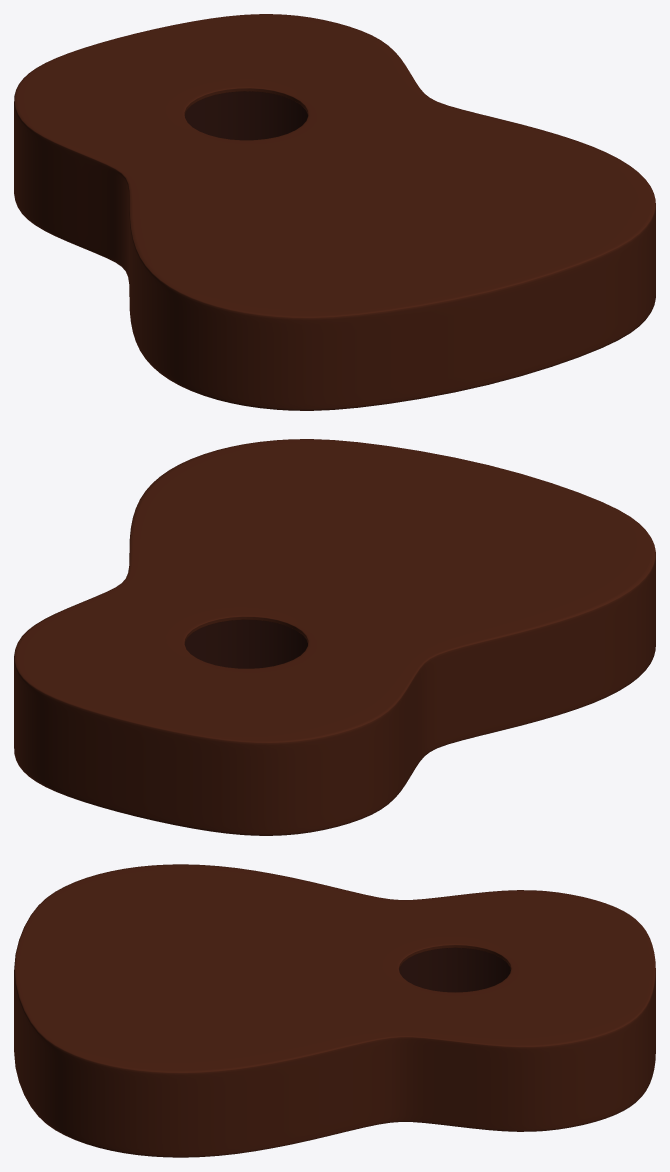
Rendered from GuitarePart1.fbx.
The picture shows the model from 3 angles, top to bottom: view 1: azimuth 30°, elevation 25°; view 2: azimuth 150°, elevation 25°; view 3: azimuth 270°, elevation 25°; orthographic projection. The views are drawn at different scales.
Parts seen in each view (by area): view 1: GuitarePart1; view 2: GuitarePart1; view 3: GuitarePart1.
Boxes of the visible parts, x1=… form: GuitarePart1: x1=14, y1=14, x2=655, y2=410; GuitarePart1: x1=14, y1=439, x2=655, y2=835; GuitarePart1: x1=14, y1=864, x2=655, y2=1157.
Bounding box in the file's own units: 66.76 × 12.77 × 86.81.
